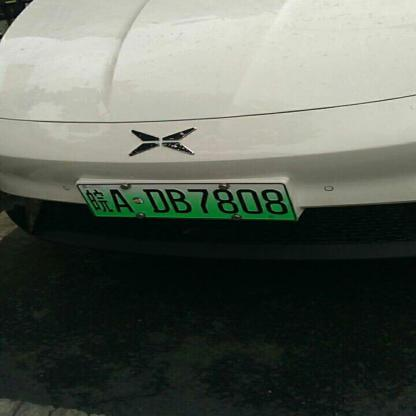lp: (77, 184, 296, 221)
